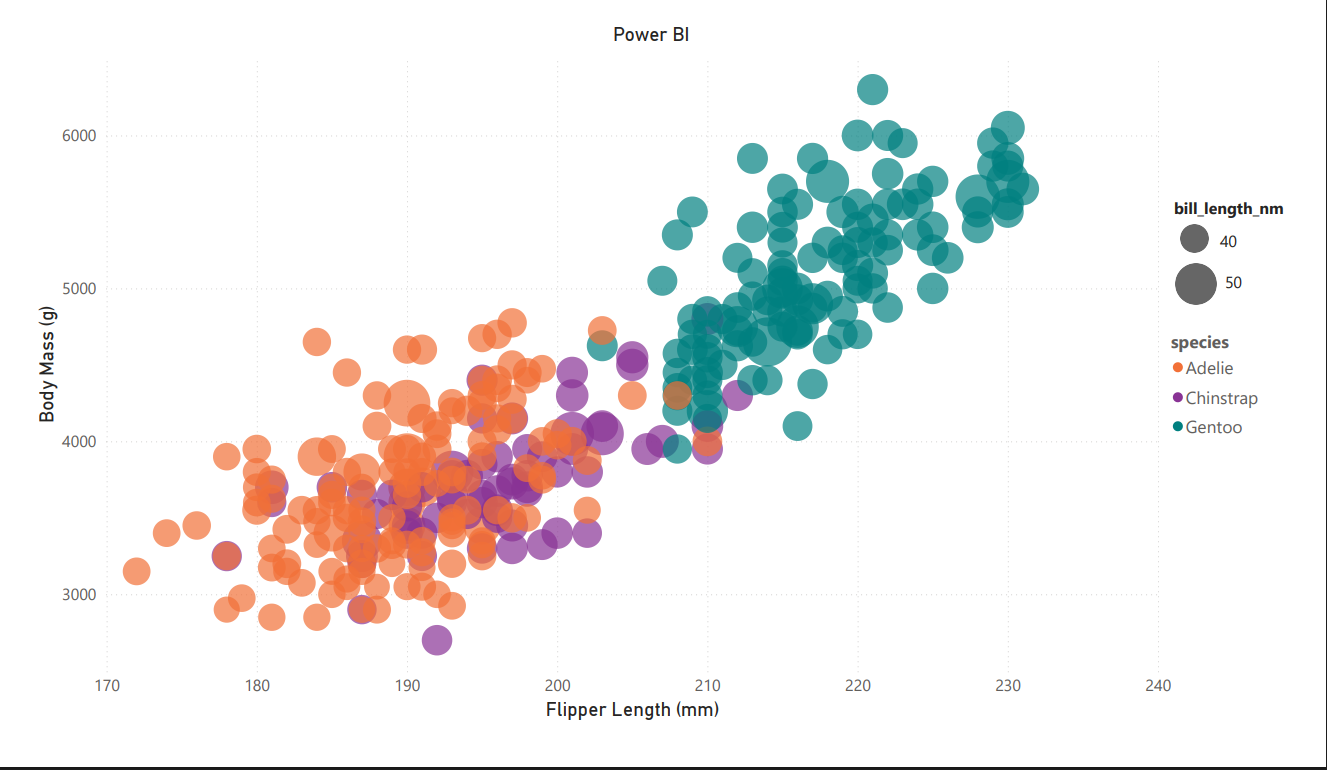

The page's visual inventory and layout, read from the dashboard file:
{"tool":"powerbi","page":{"name":"Page 1","canvas":[1280,720],"ordinal":0},"visuals":[{"type":"textbox","box":[1146.7,168.9,124.3,32.6],"z":0,"group":"g1"},{"type":"scatterChart","title":"Power BI","fields":{"X":["penglings.flipper_length_mm"],"Y":["penglings.body_mass_g"],"Series":["penglings.species"],"Size":["Sum(penglings (2).bill_length_mm)"]},"box":[7.8,0,1243.3,702.2],"z":0},{"type":"group","id":"g1","title":"Group 1","box":[1146.7,168.9,124.4,113.3],"z":6},{"type":"shape","box":[1157.4,201.2,28.9,28.9],"z":1000,"group":"g1"},{"type":"shape","box":[1152.6,239.8,42,42],"z":2000,"group":"g1"},{"type":"textbox","box":[1192.6,202,36.7,32.2],"z":3000,"group":"g1"},{"type":"textbox","box":[1197.4,243.3,41.1,36.7],"z":4000,"group":"g1"}]}

Visuals, with their boxes on the page's 1280x720 design canvas (x1, y1, x2, y2). These are canvas units, not pixel positions in the 1327x770 screenshot, which may show the page scaled, cropped or inside an application window:
textbox: (left=1147, top=169, right=1271, bottom=202)
"Power BI" scatterChart: (left=8, top=0, right=1251, bottom=702)
"Group 1" group: (left=1147, top=169, right=1271, bottom=282)
shape: (left=1157, top=201, right=1186, bottom=230)
shape: (left=1153, top=240, right=1195, bottom=282)
textbox: (left=1193, top=202, right=1229, bottom=234)
textbox: (left=1197, top=243, right=1238, bottom=280)
